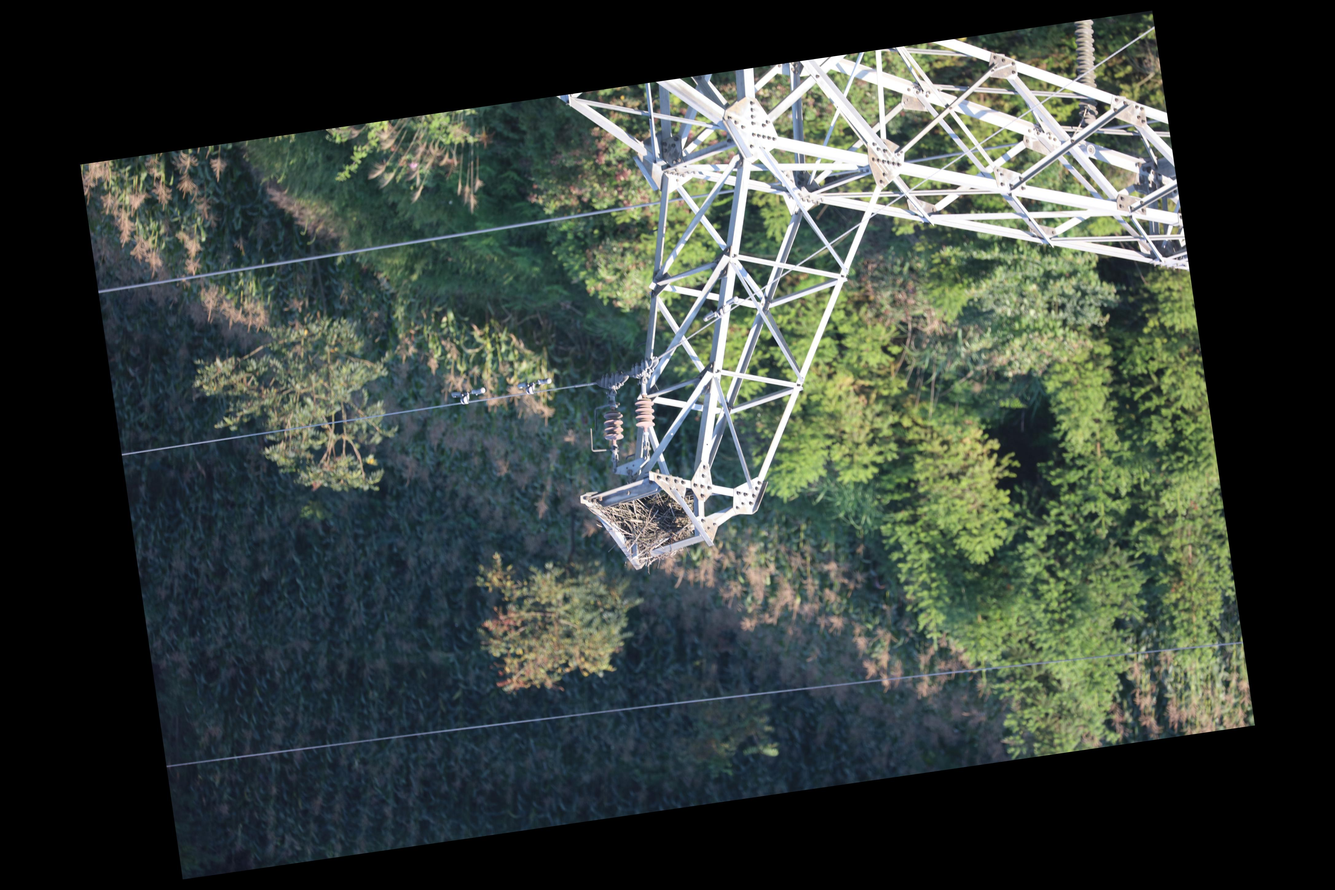damper: (699, 293, 744, 325), (515, 375, 556, 399), (448, 384, 488, 408)
